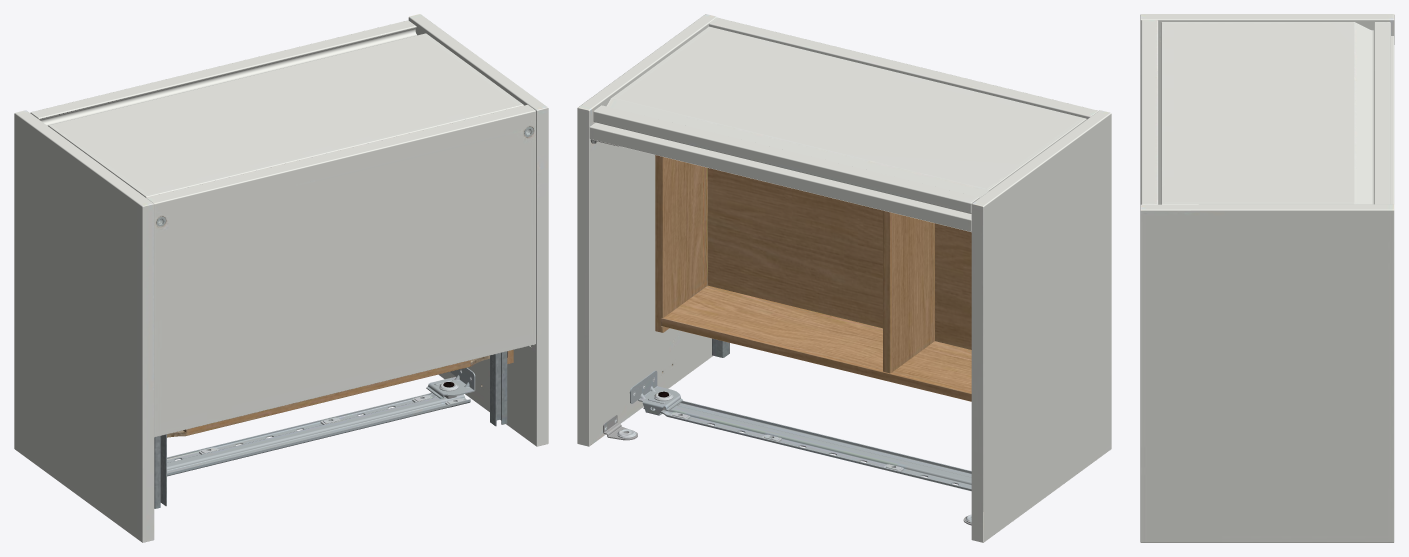
The model's file is angsjon_szafka_umywalkowa_z_szuflada_80535098.glb.
3 views of the same model, side by side, from view 1: azimuth 30°, elevation 25°; view 2: azimuth 150°, elevation 25°; view 3: azimuth 270°, elevation 25° (orthographic).
Parts seen in each view (by area): view 1: angsjon_szafka_umywalkowa_z_szuflada_80535098; view 2: angsjon_szafka_umywalkowa_z_szuflada_80535098; view 3: angsjon_szafka_umywalkowa_z_szuflada_80535098.
Boxes of the visible parts, x1,y1,x2,y2 form: angsjon_szafka_umywalkowa_z_szuflada_80535098: [14, 14, 548, 542]; angsjon_szafka_umywalkowa_z_szuflada_80535098: [577, 14, 1111, 542]; angsjon_szafka_umywalkowa_z_szuflada_80535098: [1140, 14, 1394, 542].
Size of the model in its own units: 0.6 by 0.4751 by 0.3281.
1 material, 1 textured.
